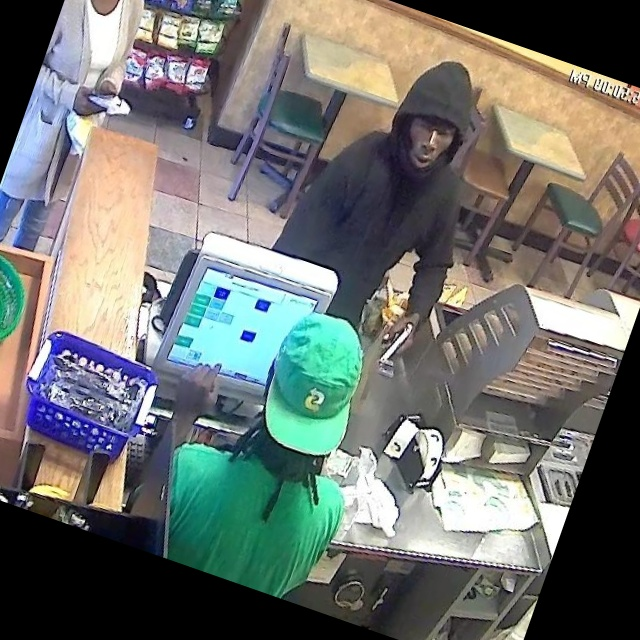gun: (363, 302, 429, 376)
